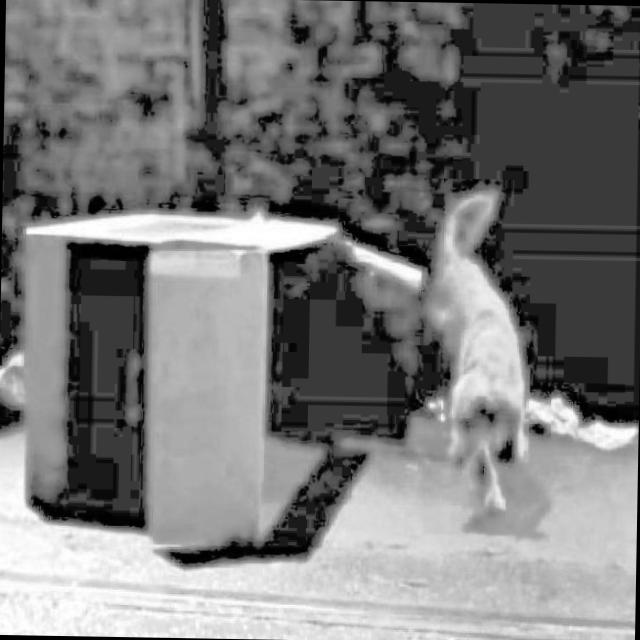Dog: (426, 174, 528, 527)
